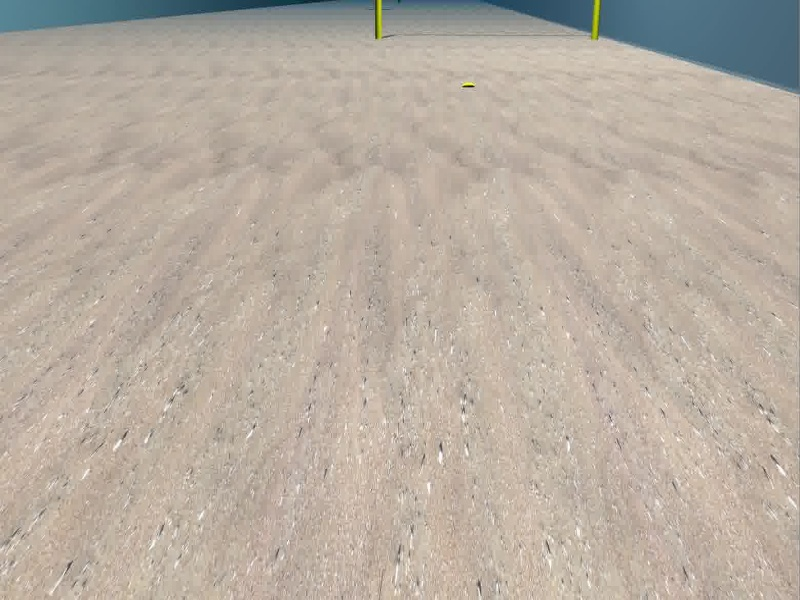gate: (373, 1, 602, 39)
